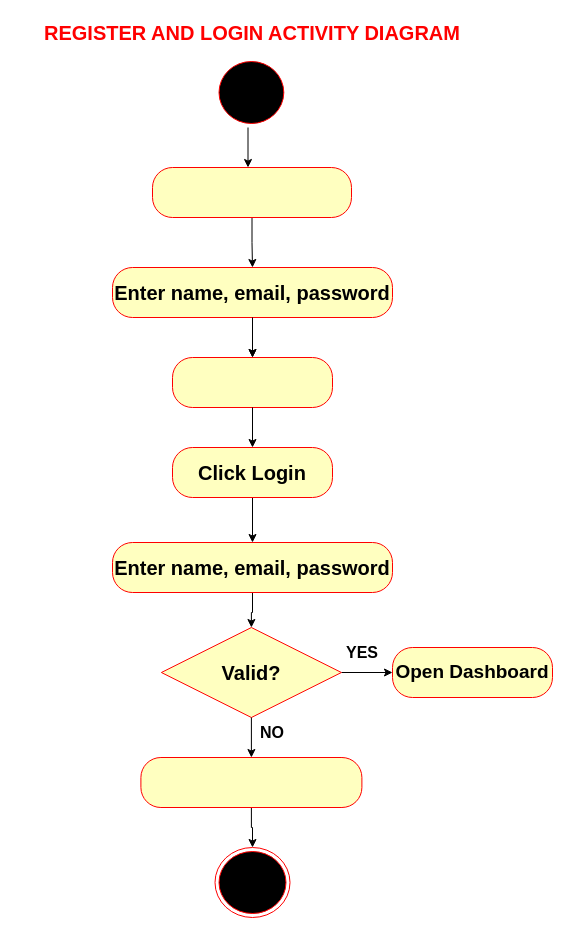
This 570x935 diagram has some shape labels left out. Here are the shapes that lost their labels. From the top down, the box of each, then its label:
(152, 166, 352, 218): Go to Register Page
(172, 356, 332, 408): Click Register
(140, 756, 362, 808): Show error message
